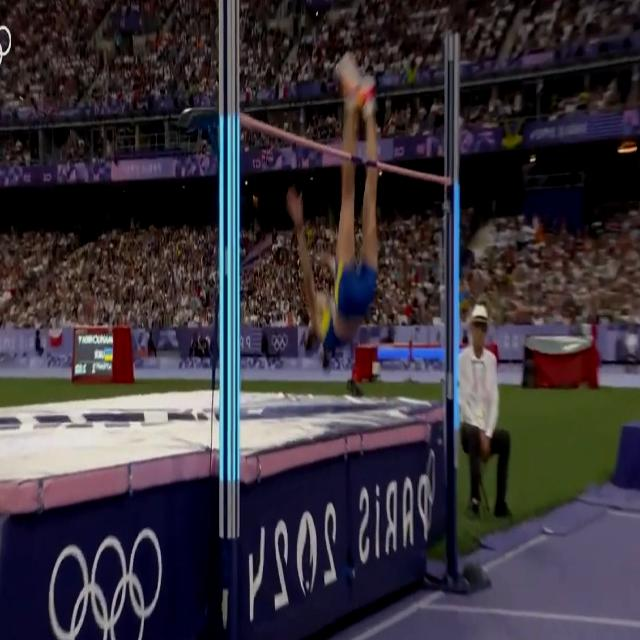land: (286, 52, 379, 359)
